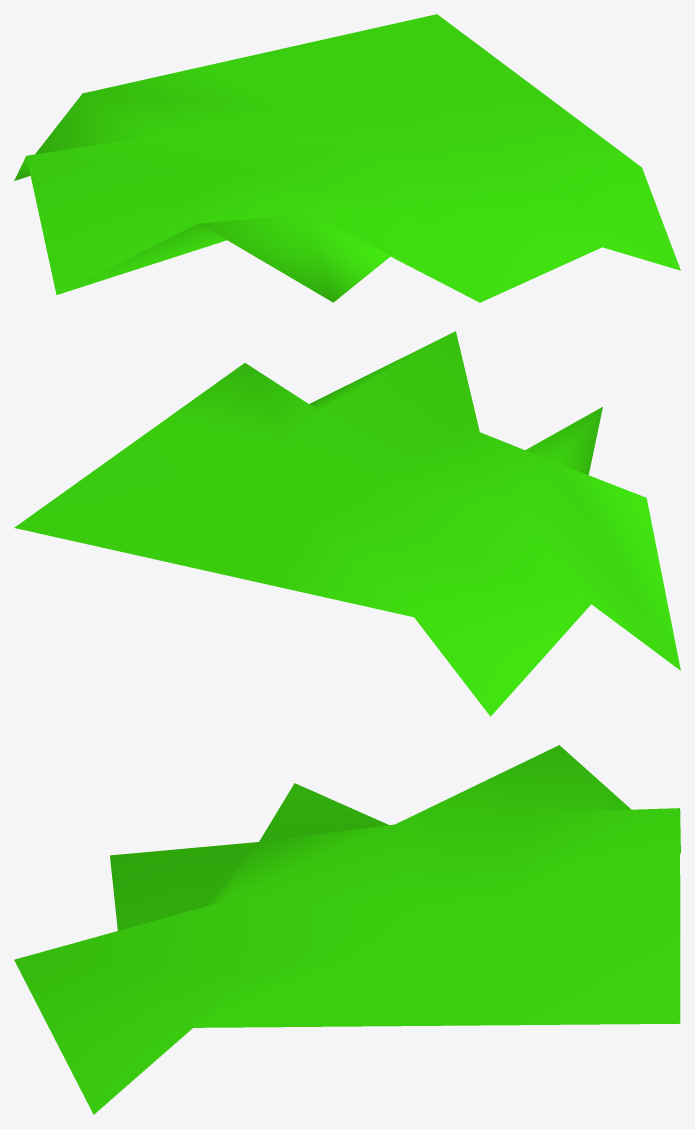
The model's file is Lechuga.glb.
3 renders of one model, top to bottom at view 1: azimuth 30°, elevation 25°; view 2: azimuth 150°, elevation 25°; view 3: azimuth 270°, elevation 25°, orthographic. The views are drawn at different scales.
Parts seen in each view (by area): view 1: Lechuga; view 2: Lechuga; view 3: Lechuga.
Boxes of the visible parts, bbox=[...] form: Lechuga: bbox=[14, 14, 680, 302]; Lechuga: bbox=[14, 331, 680, 716]; Lechuga: bbox=[14, 745, 680, 1114].
Size of the model in its own units: 1.08 by 0.1991 by 1.08.
